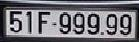-: (51, 21, 57, 27)
.: (100, 30, 105, 36)
1: (26, 11, 33, 34)
5: (9, 11, 23, 34)
9: (119, 13, 132, 36), (59, 13, 72, 35), (87, 13, 100, 35), (73, 13, 85, 35), (106, 13, 117, 35)
F: (38, 12, 51, 33)
